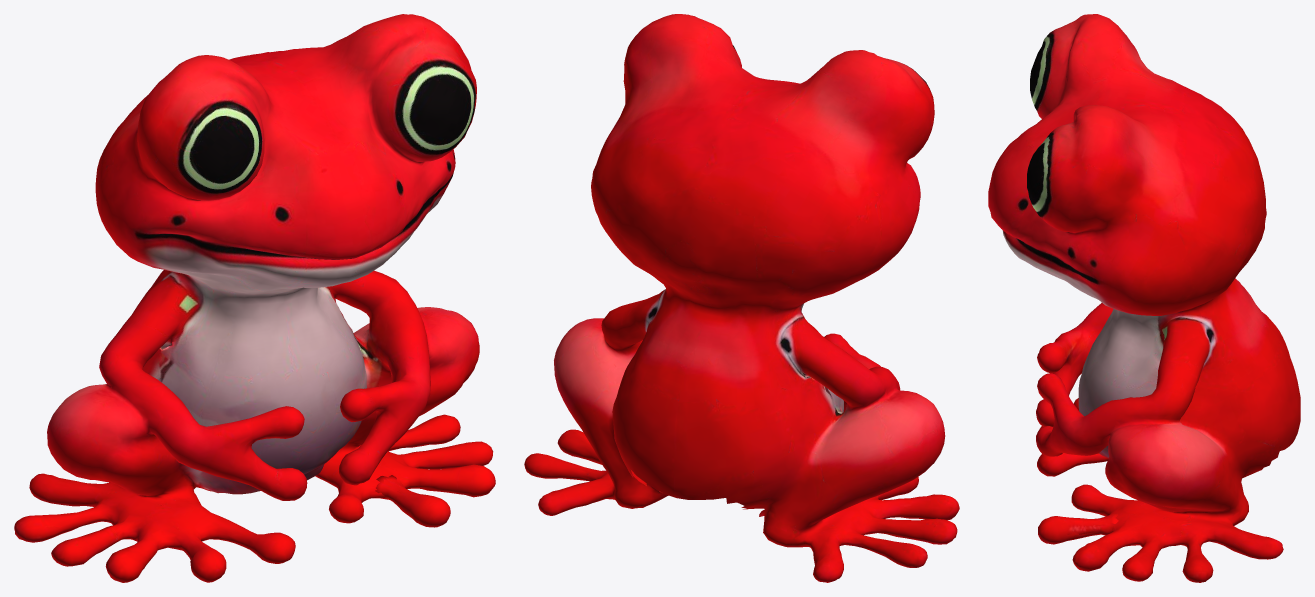
The model's file is frog_red_v1.glb.
3 views of the same model, side by side, from view 1: azimuth 30°, elevation 25°; view 2: azimuth 150°, elevation 25°; view 3: azimuth 270°, elevation 25° (orthographic). The views are drawn at different scales.
Bounding box in the file's own units: 1.77 × 1.9 × 1.23.
1 material, 1 textured.
